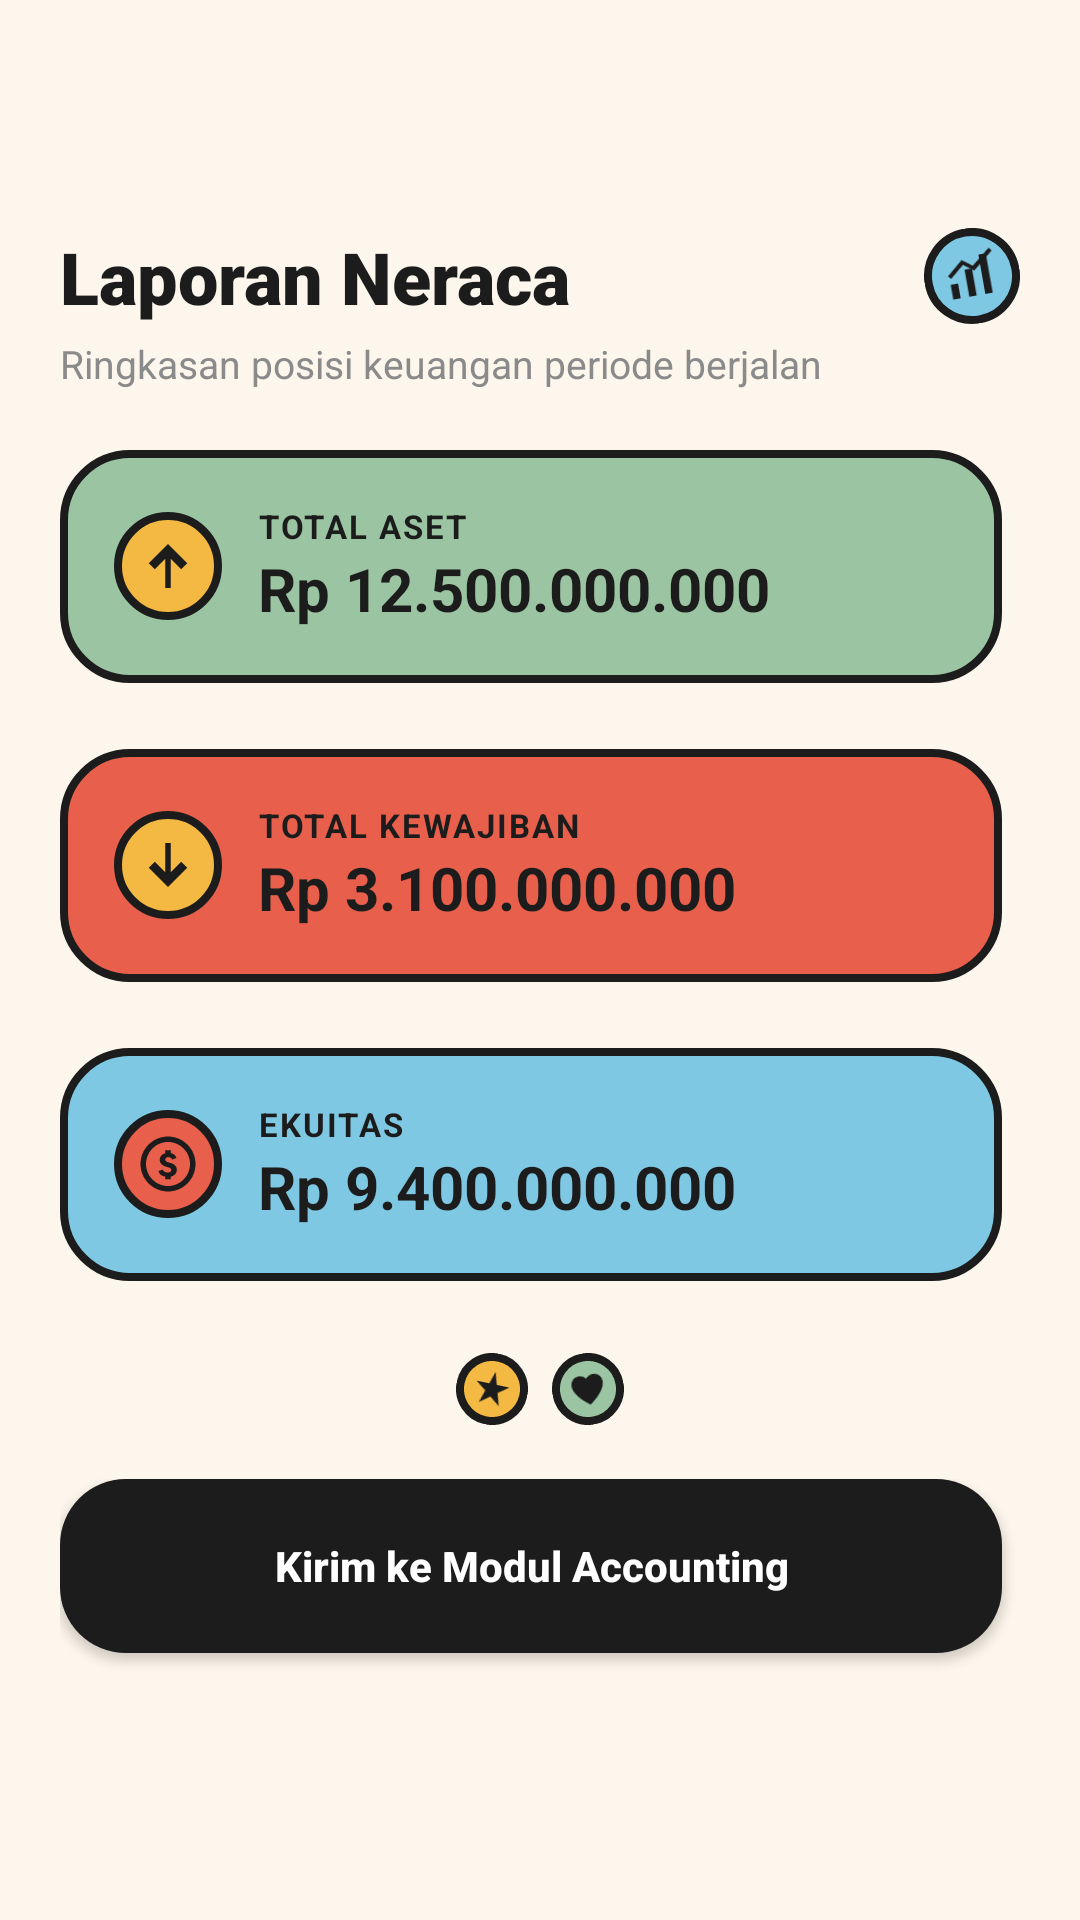

Screen size 1080px x 1920px. Icon name, then its box in pixels as [x1=x1, y1=y1, x2=x2, y2=y2]:
arrow down: [x1=114, y1=811, x2=222, y2=919]
arrow up: [x1=114, y1=512, x2=222, y2=620]
coin: [x1=114, y1=1110, x2=222, y2=1218]
